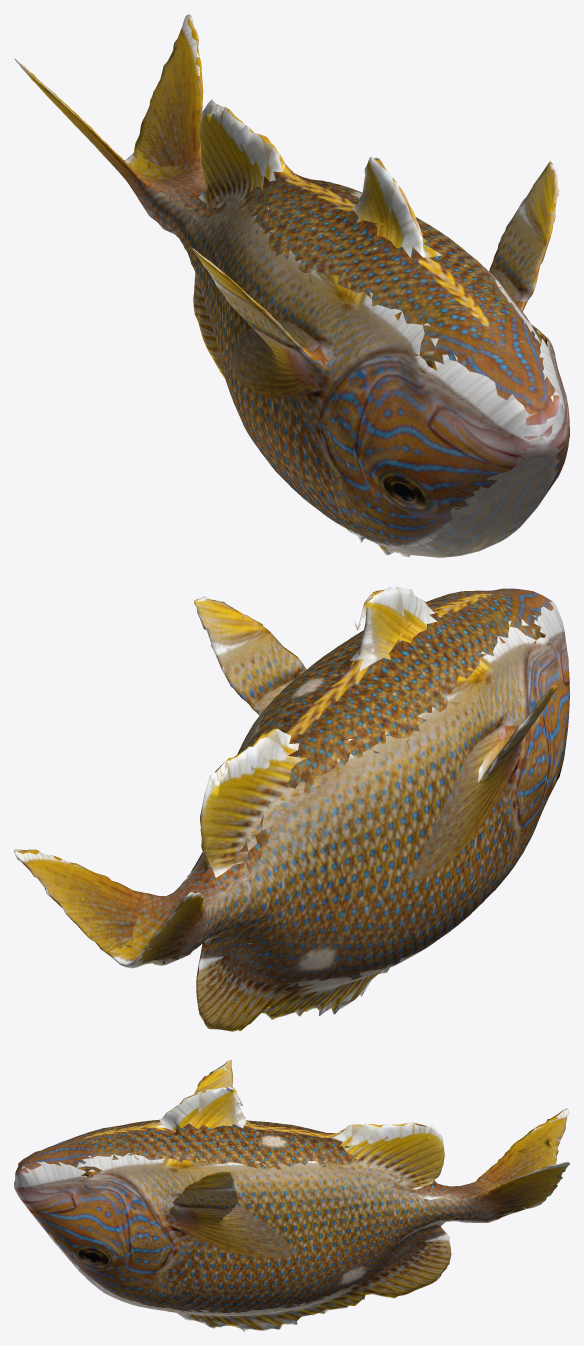
File: fish_maori.glb
The picture shows the model from 3 angles, top to bottom: view 1: azimuth 30°, elevation 25°; view 2: azimuth 150°, elevation 25°; view 3: azimuth 270°, elevation 25°; orthographic projection. The views are drawn at different scales.
Parts seen in each view (by area): view 1: orient; view 2: orient; view 3: orient.
Boxes of the visible parts, x1,y1,x2,y2 form: orient: [14, 14, 569, 557]; orient: [14, 586, 569, 1031]; orient: [14, 1060, 569, 1331].
Bounding box in the file's own units: 0.9052 × 0.9479 × 1.94.
1 material, 1 textured.
